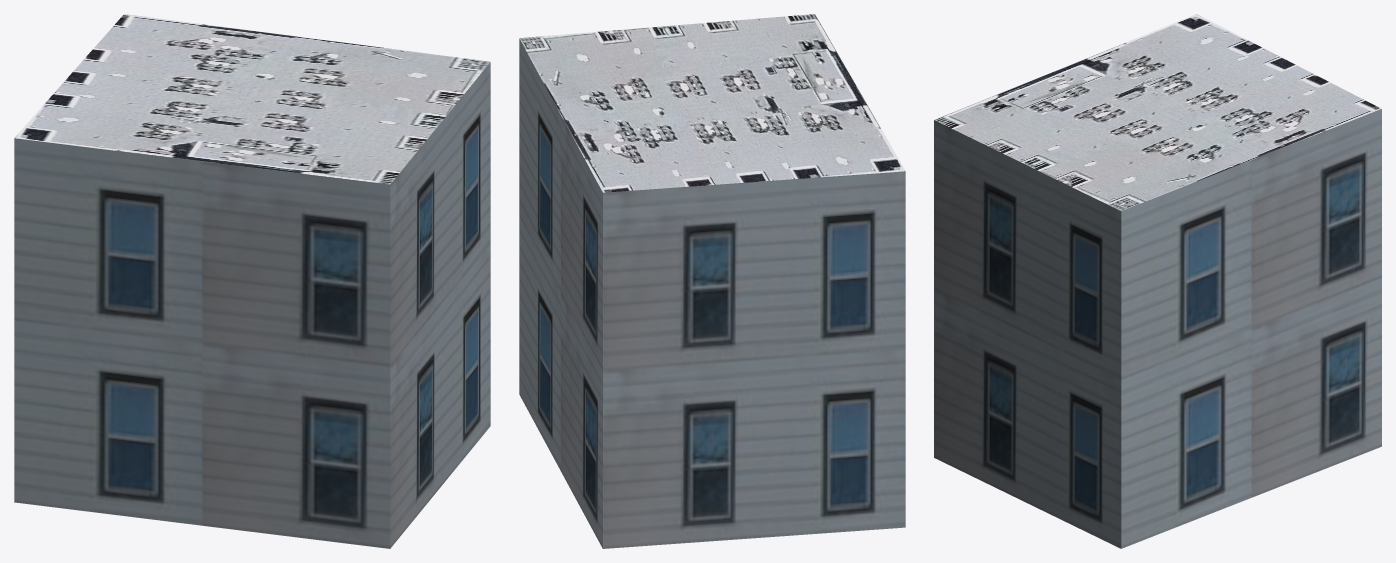
File: ResTex__4767.fbx
3 renders of one model, left to right at view 1: azimuth 30°, elevation 25°; view 2: azimuth 150°, elevation 25°; view 3: azimuth 270°, elevation 25°, orthographic. The views are drawn at different scales.
Parts seen in each view (by area): view 1: CityEngineMaterial_18_m, CityEngineMaterial_2_m; view 2: CityEngineMaterial_18_m, CityEngineMaterial_2_m; view 3: CityEngineMaterial_18_m, CityEngineMaterial_2_m.
Boxes of the visible parts, x1,y1,x2,y2 form: CityEngineMaterial_18_m: (14,62,490,548); CityEngineMaterial_2_m: (14,14,490,184); CityEngineMaterial_18_m: (519,39,905,548); CityEngineMaterial_2_m: (519,14,905,192); CityEngineMaterial_18_m: (934,109,1381,548); CityEngineMaterial_2_m: (934,14,1381,210).
Bounding box in the file's own units: 7.51 × 6 × 7.21.
2 materials, 2 textured.
